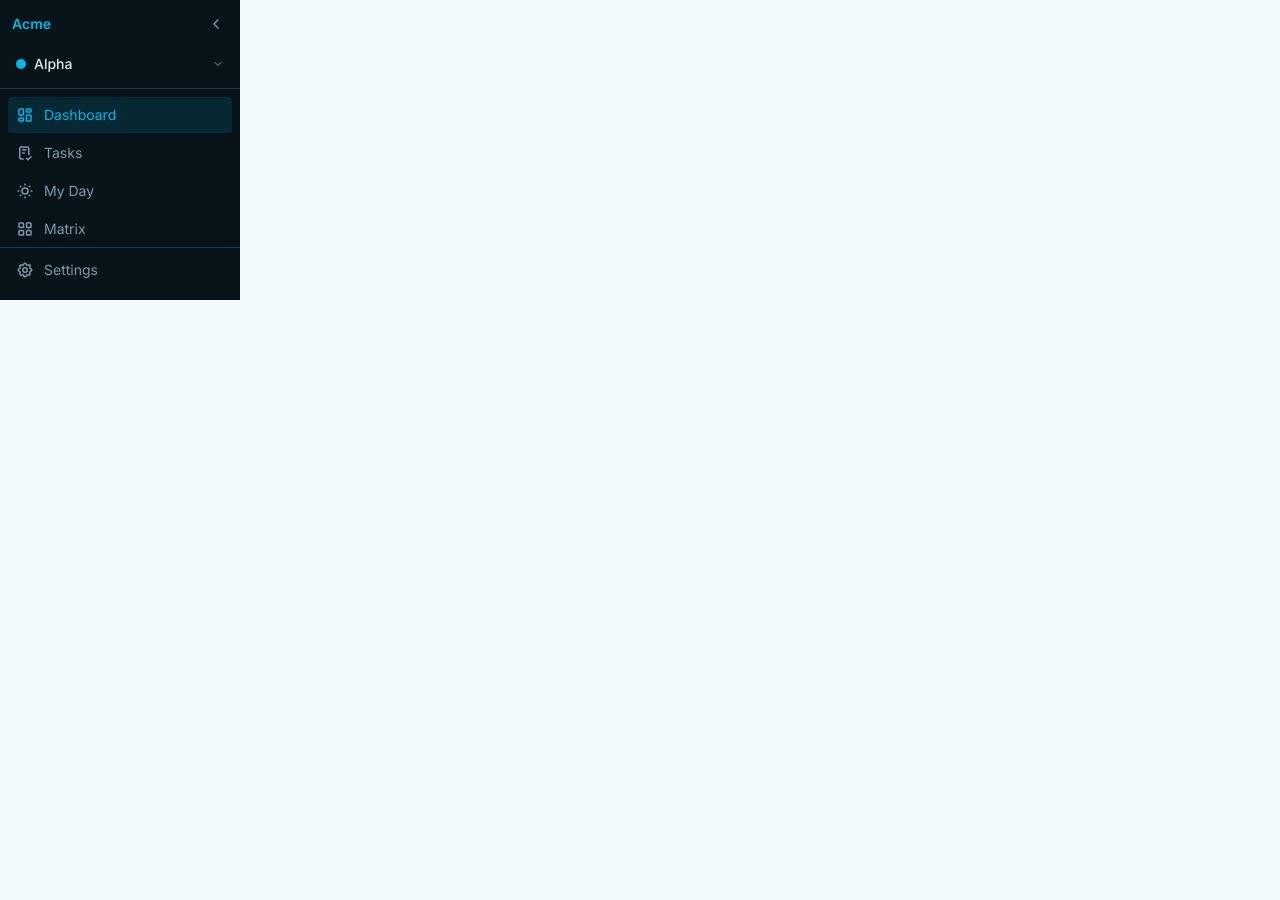
Scenario: Sidebar › project items in switcher link to /projects/[id]
# Open the switcher popover
Click the button with aria-label "Select project". click: click(120, 64)
box: [8, 48, 232, 80]
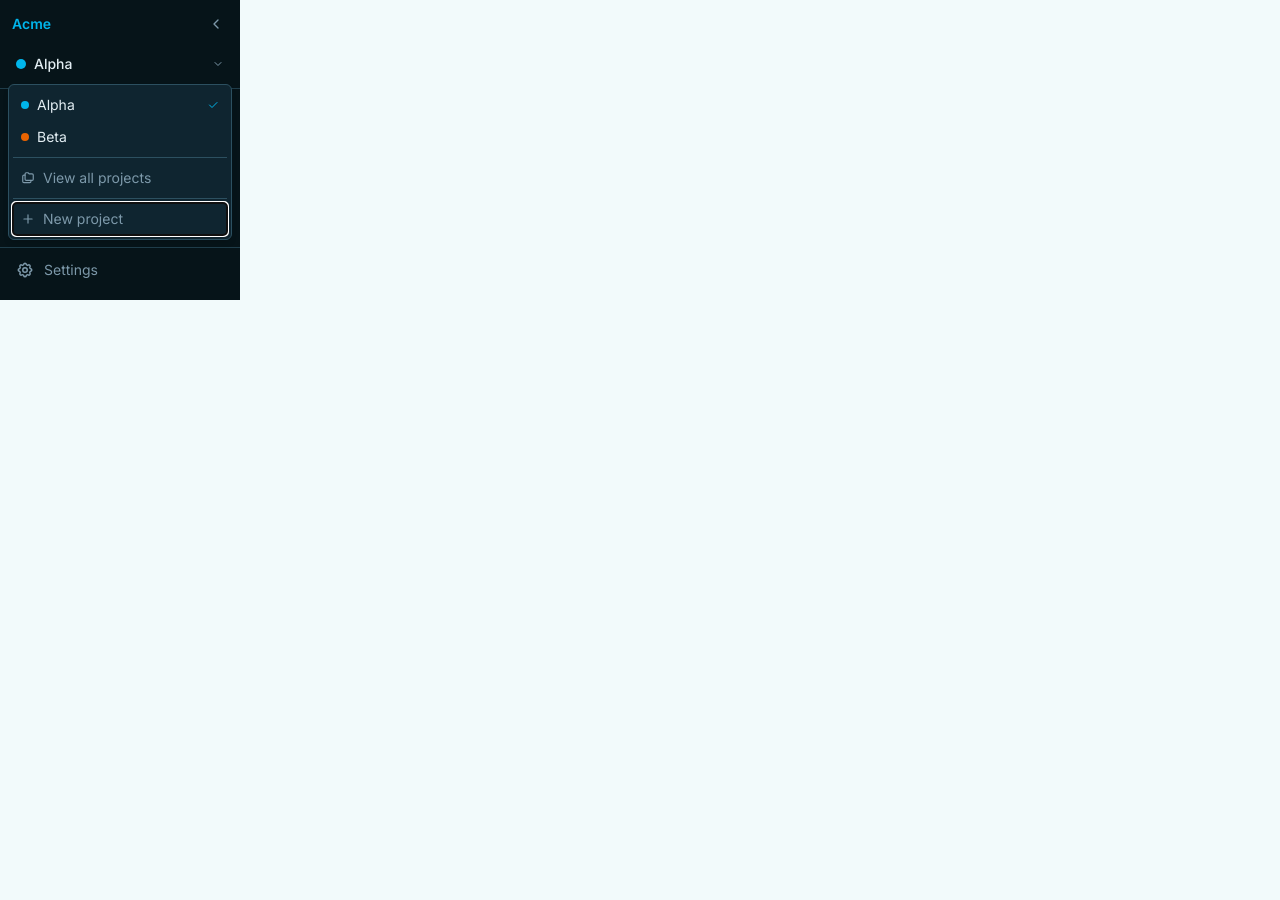
Now the text "Beta" is shown, box [37, 128, 67, 145]
